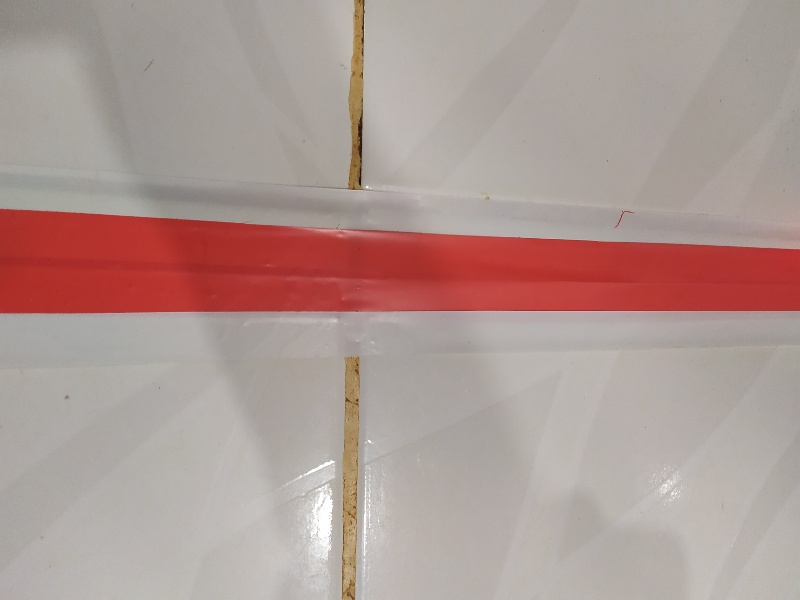reta: (3, 165, 800, 355)
